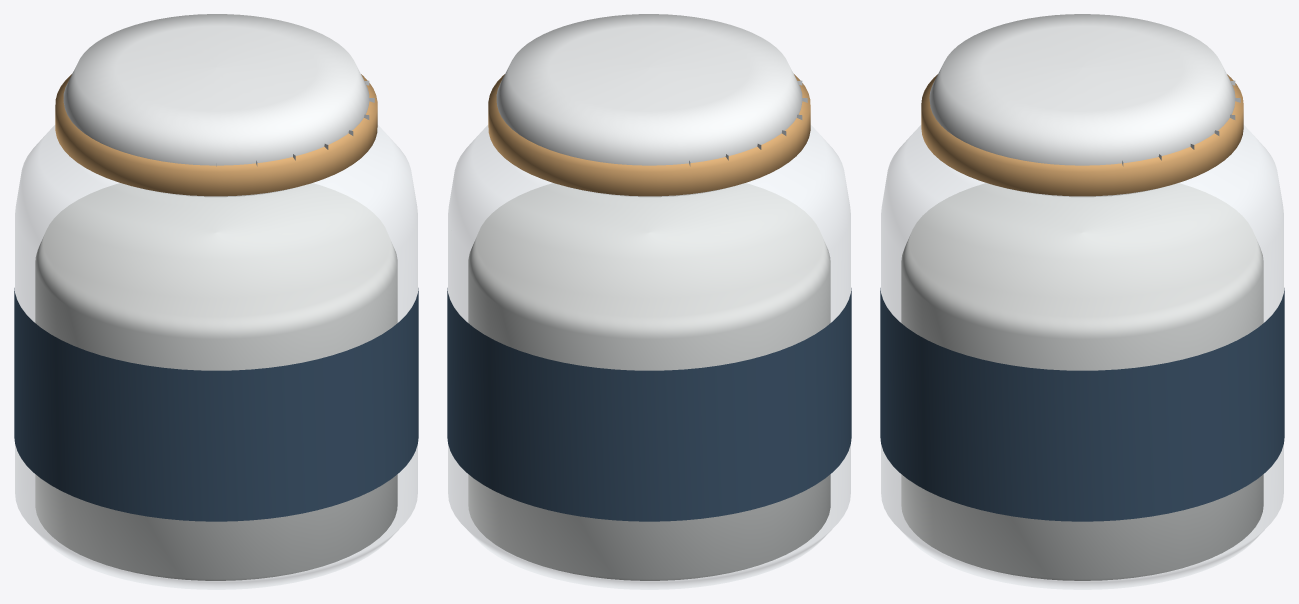
Rendered from sample-jar.glb.
3 views of the same model, side by side, from view 1: azimuth 30°, elevation 25°; view 2: azimuth 150°, elevation 25°; view 3: azimuth 270°, elevation 25° (orthographic).
Parts seen in each view (by area): view 1: jar_glass, jar_salt, jar_label, jar_cap, jar_seal; view 2: jar_glass, jar_salt, jar_label, jar_cap, jar_seal; view 3: jar_glass, jar_salt, jar_label, jar_cap, jar_seal.
Boxes of the visible parts, x1,y1,x2,y2 form: jar_glass: (15, 125, 417, 589); jar_salt: (35, 183, 397, 580); jar_label: (14, 288, 418, 521); jar_cap: (63, 14, 369, 197); jar_seal: (55, 74, 377, 196); jar_glass: (448, 125, 850, 589); jar_salt: (468, 183, 830, 580); jar_label: (447, 288, 851, 521); jar_cap: (496, 14, 802, 197); jar_seal: (488, 74, 810, 196); jar_glass: (881, 125, 1283, 589); jar_salt: (901, 183, 1263, 580); jar_label: (880, 288, 1284, 521); jar_cap: (929, 14, 1235, 197); jar_seal: (921, 74, 1243, 196).
Size of the model in its own units: 0.6024 by 0.73 by 0.6024.
